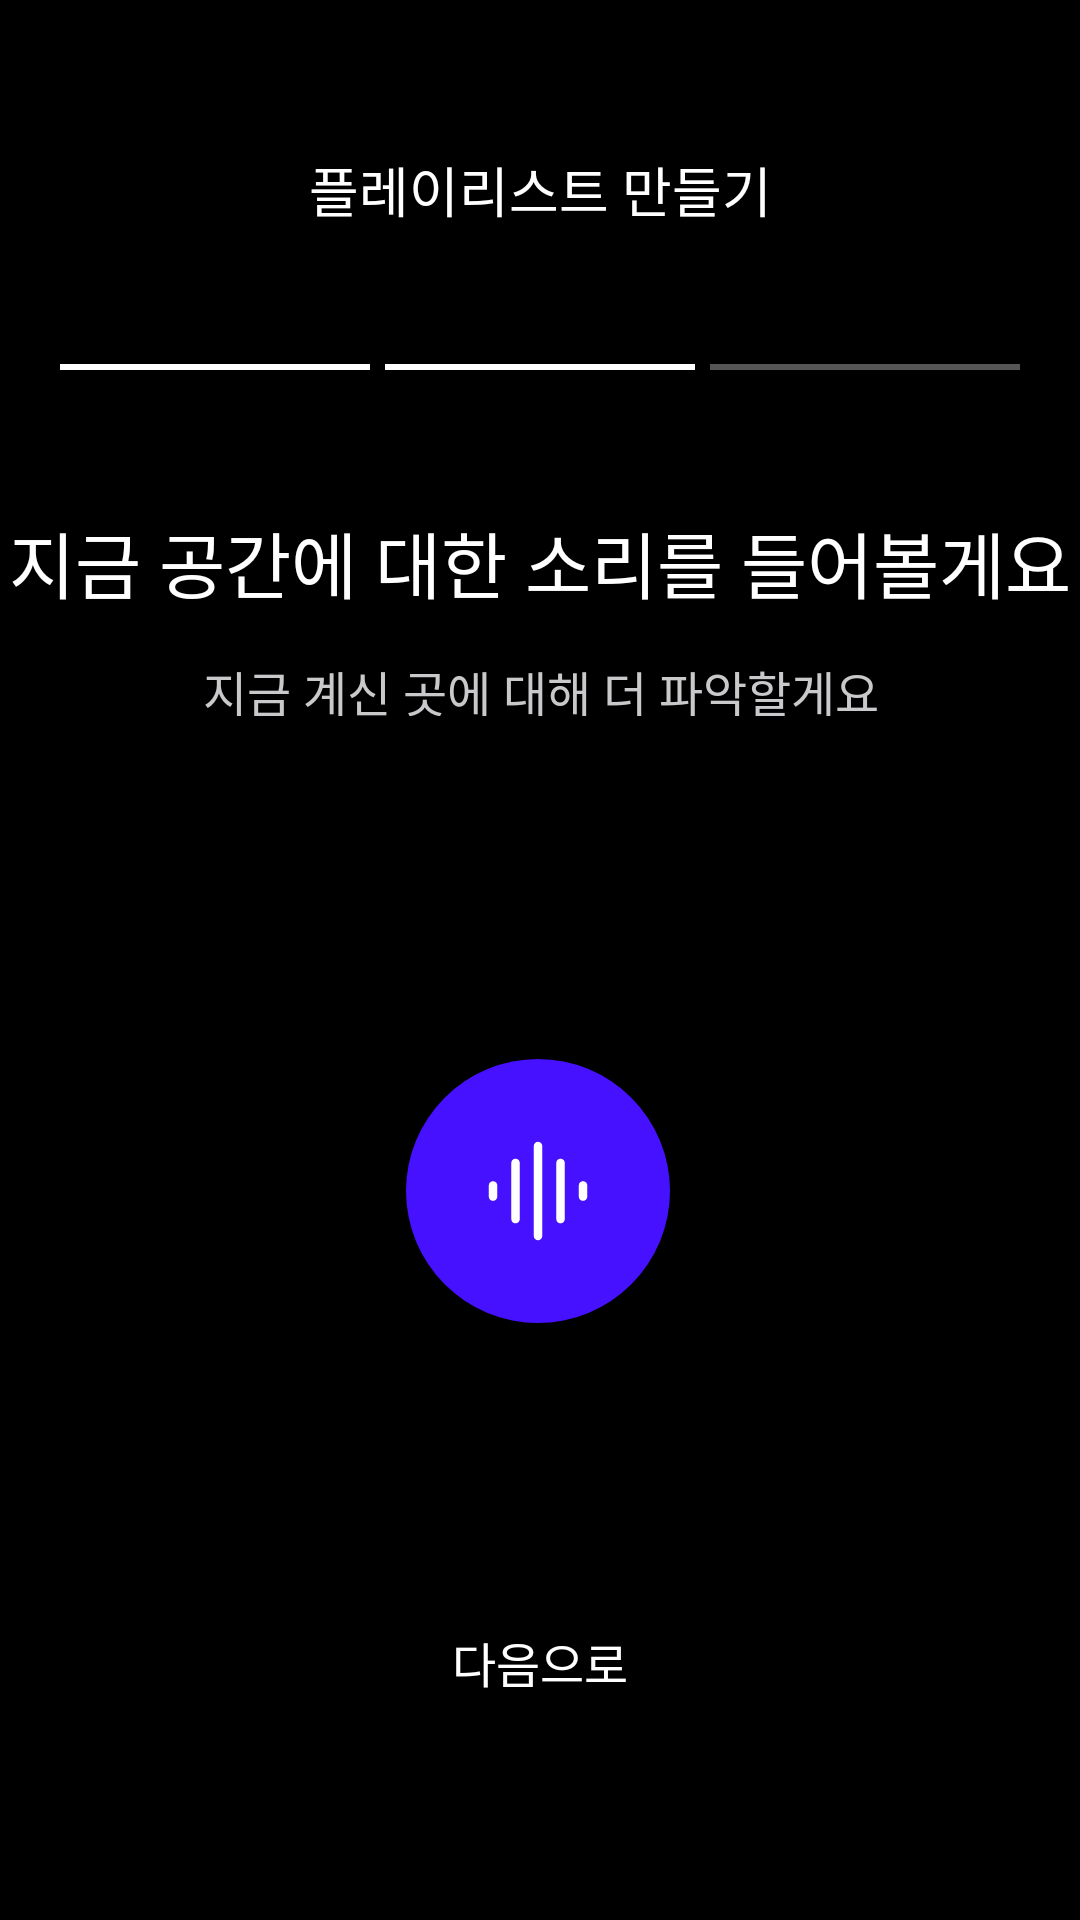

Screen size 1080×1920. Icon name, then its center in pixels as (x=x, y=y):
데시벨 측정 시작 버튼: (x=538, y=1191)
